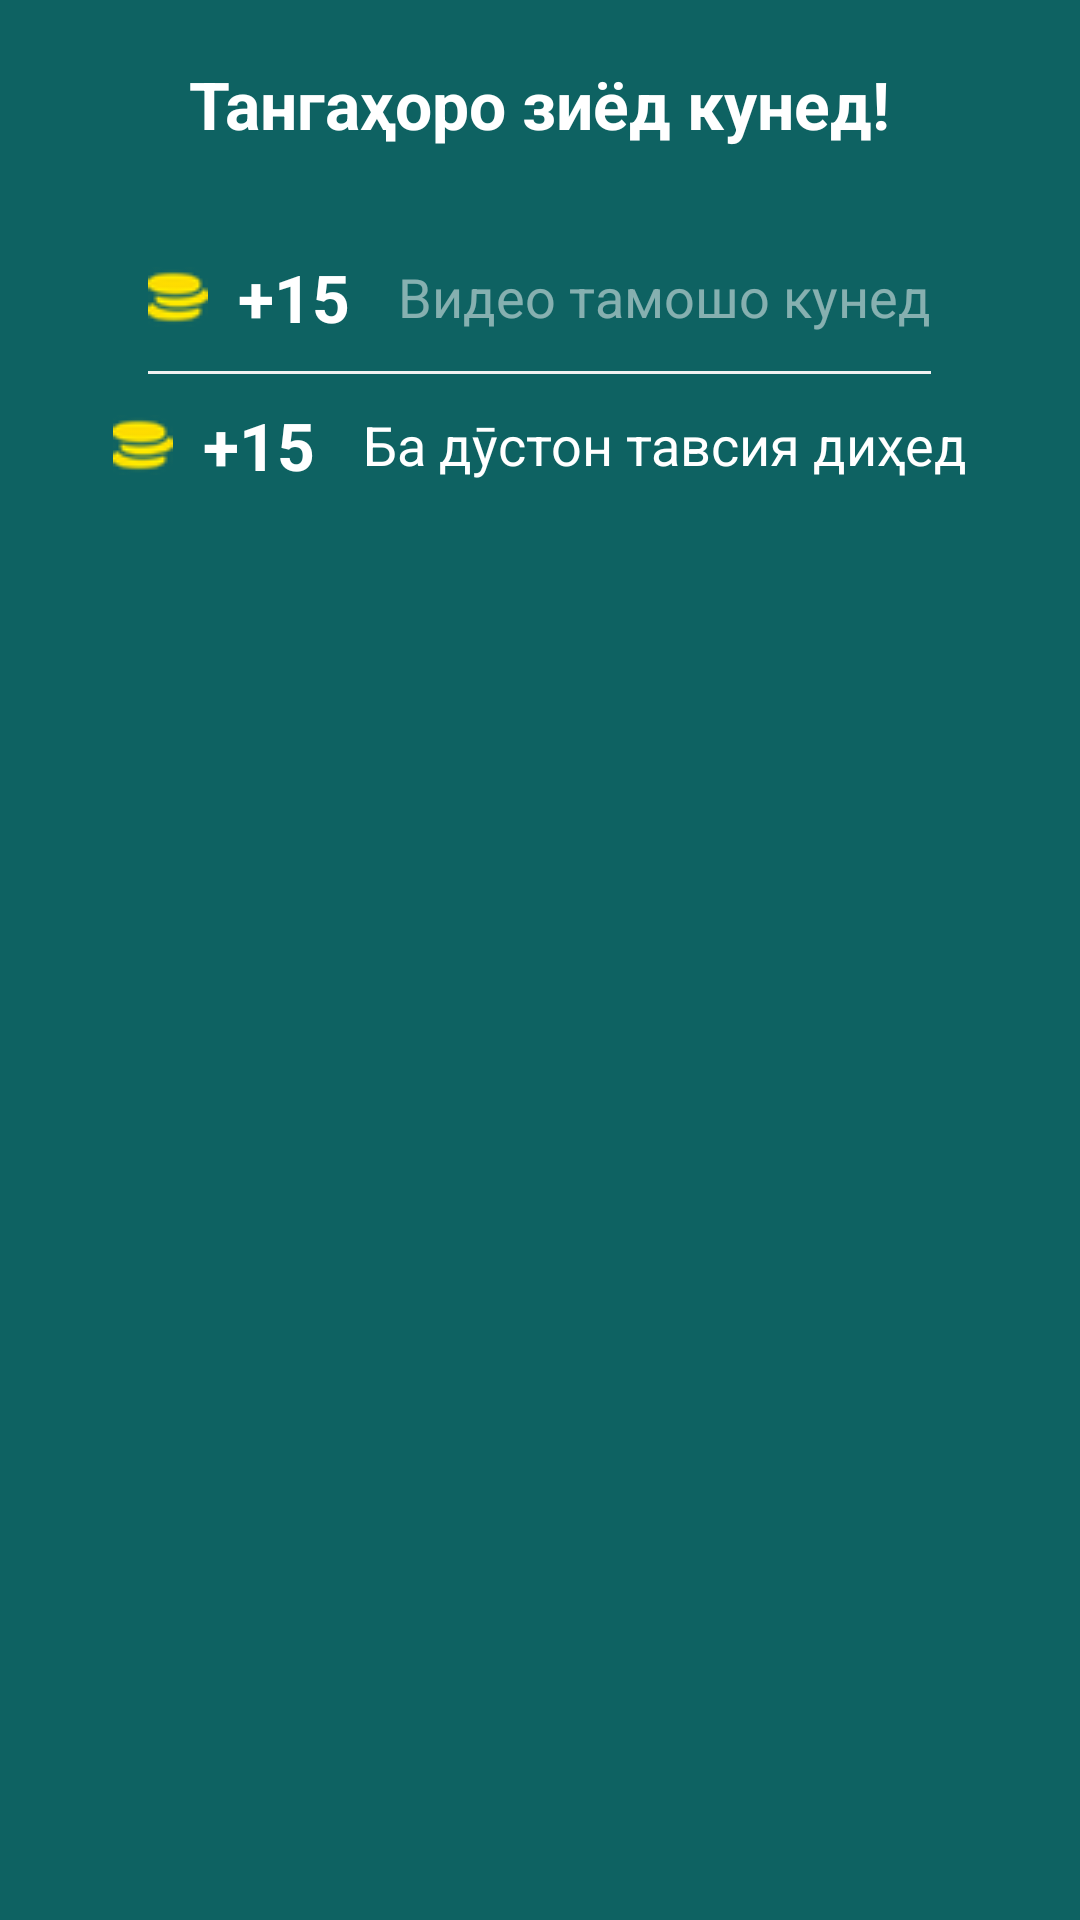

Screen size 1080w x 1920h. Icon name, then its center in pixels as point (x, y):
coins: point (178, 297), point (143, 445)
